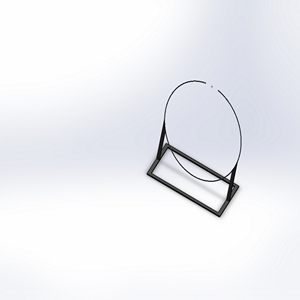circle: (145, 79, 243, 218)
